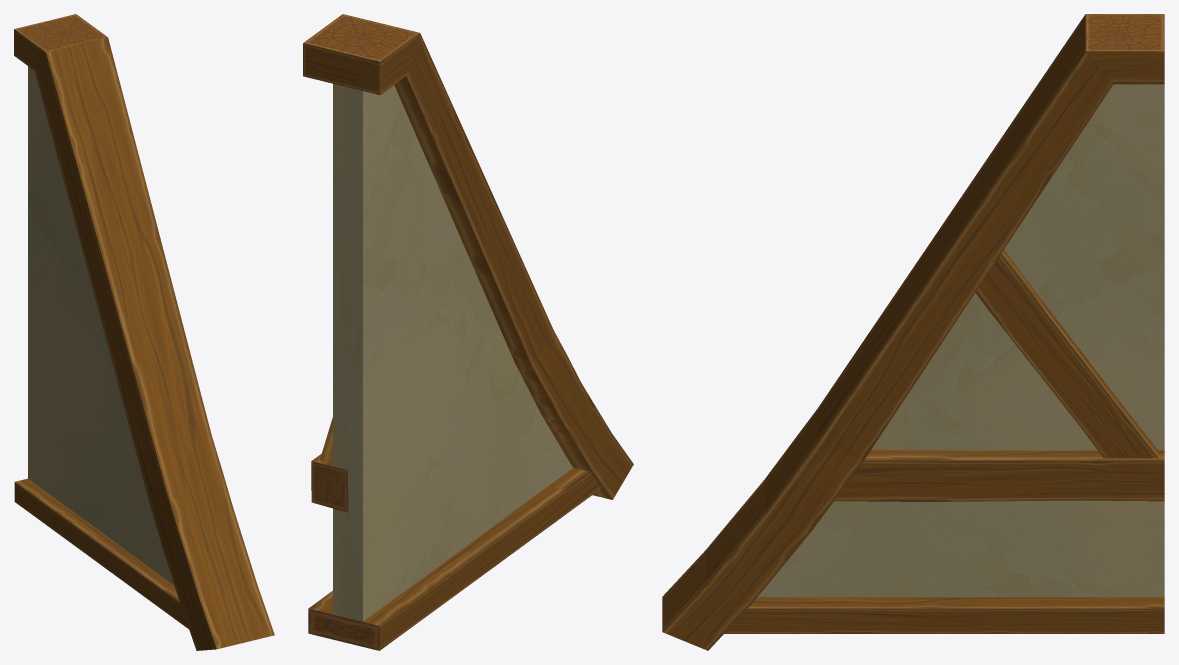
File: SM_House_Roof_01_WallBottom_Extended_02.fbx
The picture shows the model from 3 angles, left to right: view 1: azimuth 30°, elevation 25°; view 2: azimuth 150°, elevation 25°; view 3: azimuth 270°, elevation 25°; orthographic projection. The views are drawn at different scales.
Visible parts, largest first — view 1: SM_House_Roof_01_WallBottom_Extended_02; view 2: SM_House_Roof_01_WallBottom_Extended_02; view 3: SM_House_Roof_01_WallBottom_Extended_02.
Boxes of the visible parts, x1,y1,x2,y2 form: SM_House_Roof_01_WallBottom_Extended_02: [14, 14, 274, 650]; SM_House_Roof_01_WallBottom_Extended_02: [303, 14, 633, 650]; SM_House_Roof_01_WallBottom_Extended_02: [662, 14, 1164, 650].
Size of the model in its own units: 0.4251 by 3.08 by 2.33.
